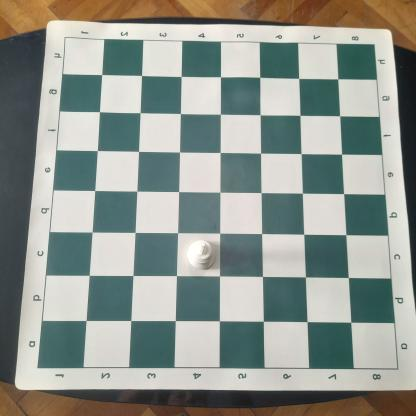white-king: (186, 238, 216, 270)
